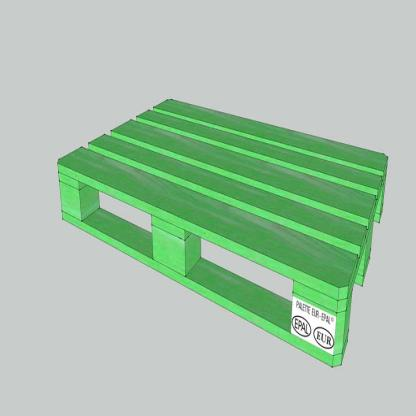BoxFace: (56, 91, 391, 372)
